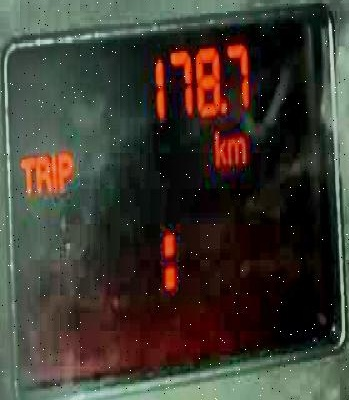-: (218, 95, 226, 110)
1: (151, 53, 166, 117)
7: (167, 46, 193, 115), (226, 42, 250, 108)
8: (194, 44, 220, 115)
X: (161, 229, 176, 291), (17, 150, 34, 195), (35, 150, 50, 195), (57, 149, 72, 191), (226, 135, 245, 164), (212, 126, 226, 164), (50, 151, 57, 193)
